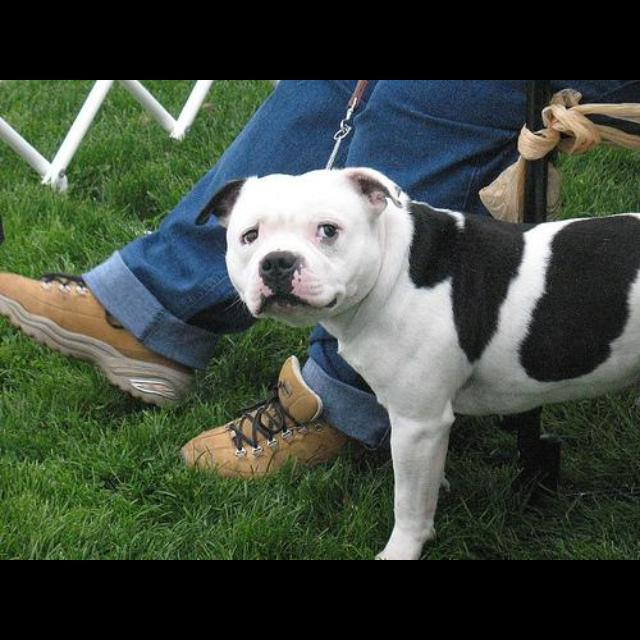staffford: (197, 166, 639, 560)
